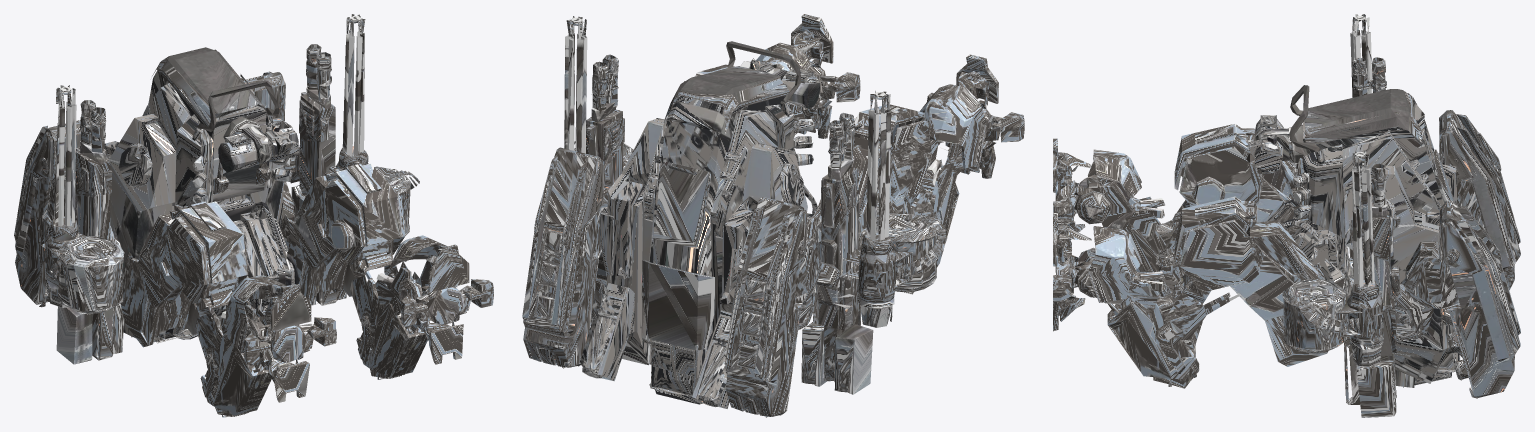
File: mecha.glb
3 views of the same model, side by side, from view 1: azimuth 30°, elevation 25°; view 2: azimuth 150°, elevation 25°; view 3: azimuth 270°, elevation 25° (orthographic). The views are drawn at different scales.
Parts seen in each view (by area): view 1: Object_45, Object_44, Object_43; view 2: Object_44, Object_43, Object_45; view 3: Object_44, Object_45, Object_43.
Part boxes in pixels (x1,y1,x2,y2): Object_45: (120, 160, 493, 417); Object_44: (14, 14, 419, 364); Object_43: (104, 70, 299, 342); Object_44: (522, 16, 947, 417); Object_43: (580, 58, 820, 408); Object_45: (695, 14, 1024, 294); Object_44: (1282, 14, 1520, 417); Object_45: (1053, 124, 1328, 388); Object_43: (1248, 103, 1462, 387).
Bounding box in the file's own units: 0.8609 × 0.6855 × 1.
Materials: 3 (3 with a texture image).
